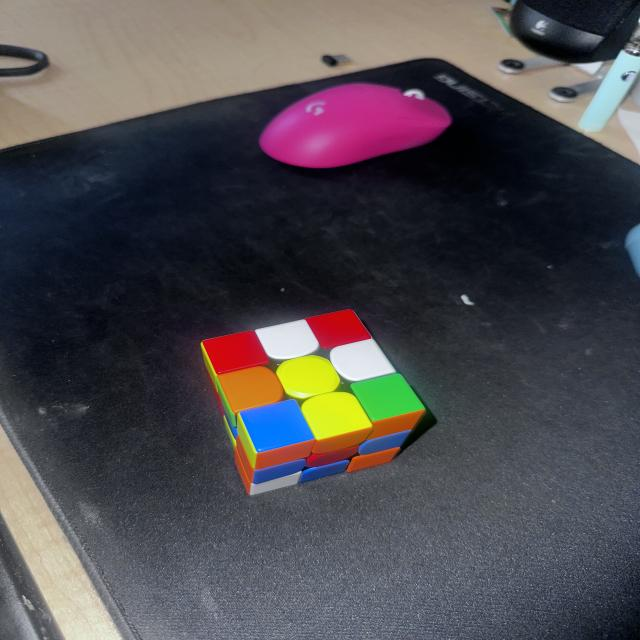sticker: (235, 398, 316, 470), (348, 374, 426, 447), (299, 391, 373, 456), (235, 433, 302, 496), (214, 365, 284, 418), (200, 330, 270, 376), (274, 355, 342, 400), (329, 338, 396, 383), (305, 308, 372, 351), (254, 318, 320, 361), (200, 347, 231, 423), (359, 407, 422, 444), (250, 457, 306, 488), (344, 446, 400, 473), (356, 429, 410, 457), (247, 470, 302, 495), (299, 457, 350, 483), (233, 436, 255, 491), (305, 446, 357, 467), (219, 385, 238, 430)
